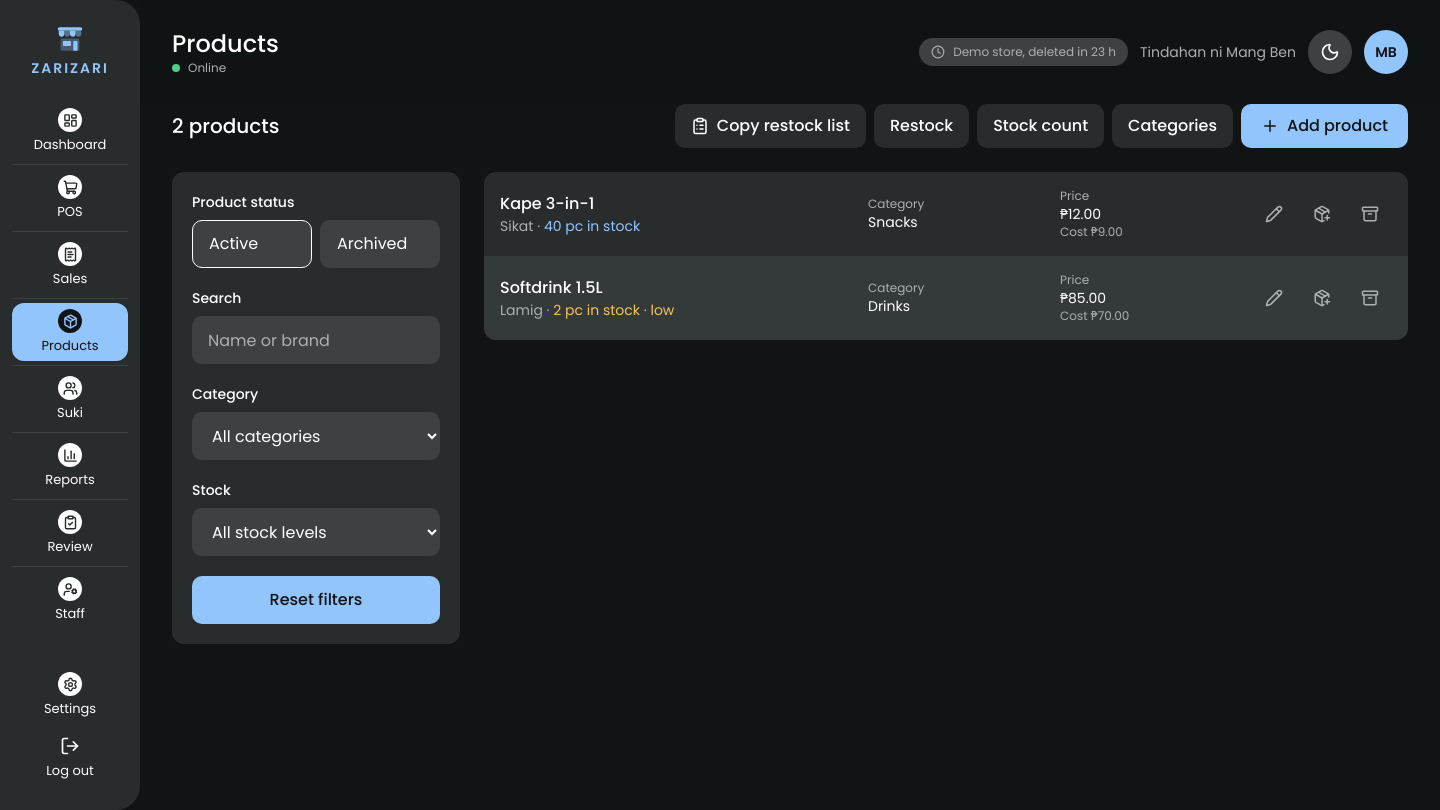
Scenario: products list (reference: Inventory) › archives a product from its row and brings an archived one back
Click the button named "Archive Kape 3-in-1".
click(1370, 214)  # box [1348,192,1392,236]
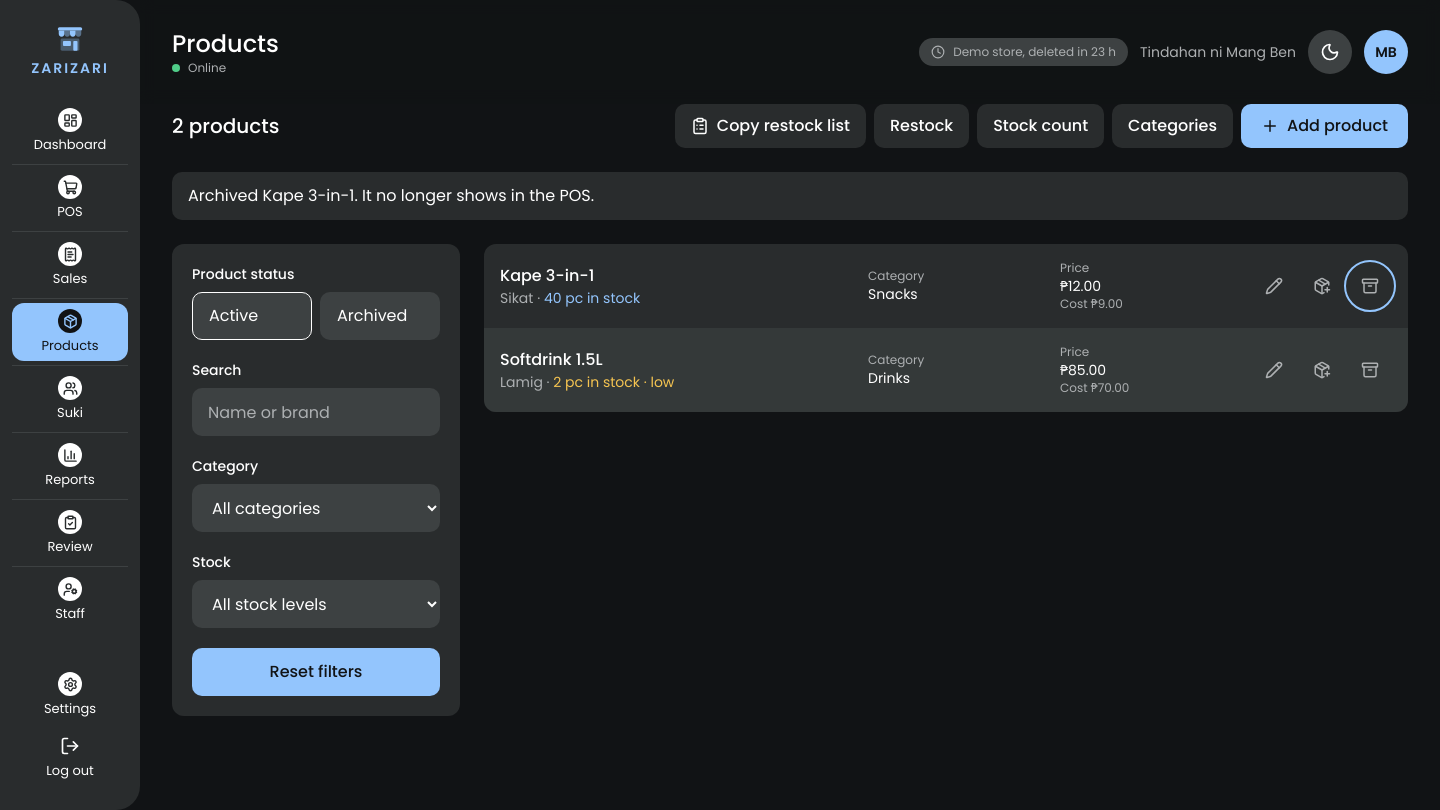
Now the text "Archived Kape 3-in-1. It no longer shows in the POS." is shown, box [188,184,594,207]
Click the button "Archived".
click(380, 316)  # box [320,292,440,340]
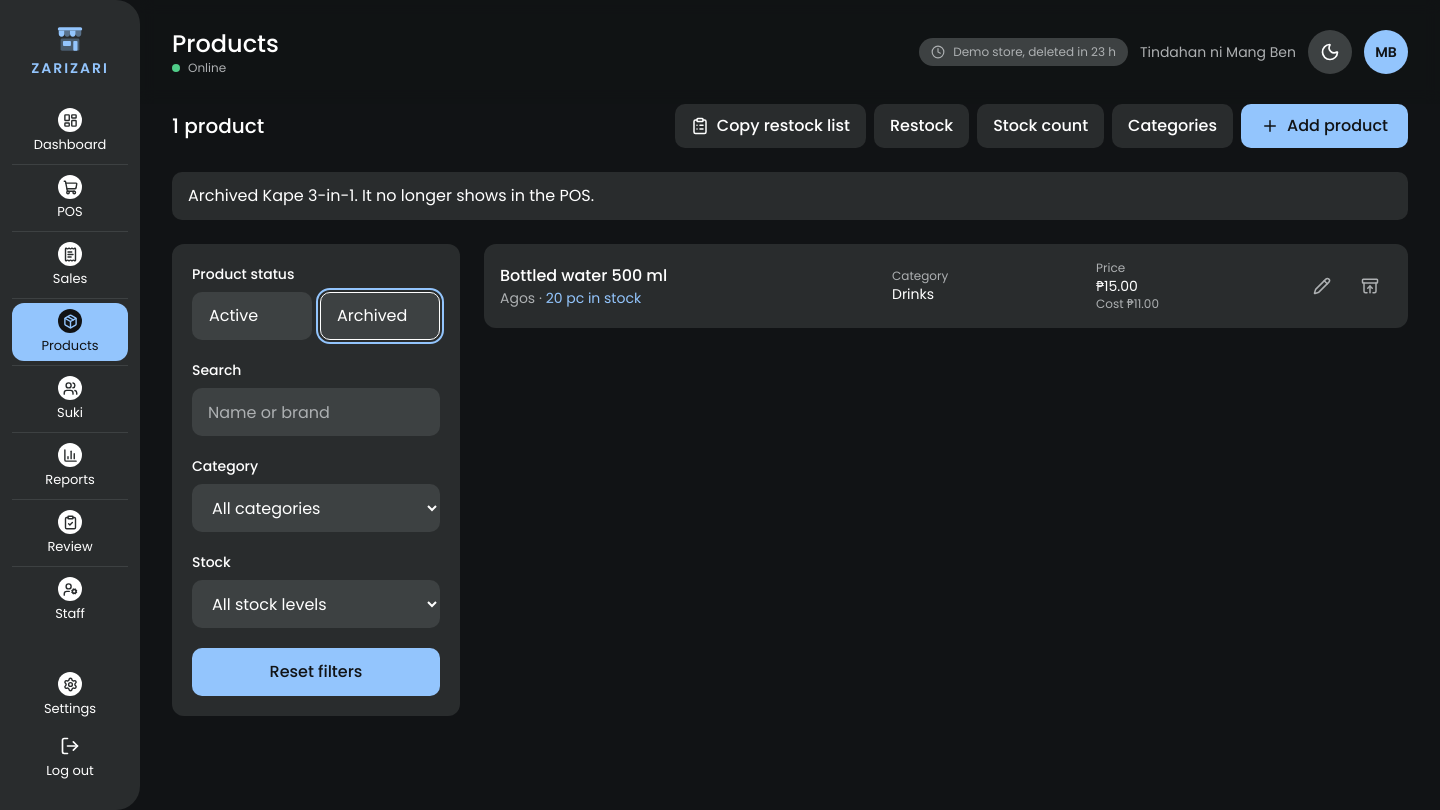
Click the button named "Unarchive Bottled water 500 ml".
click(1370, 286)  # box [1348,264,1392,308]
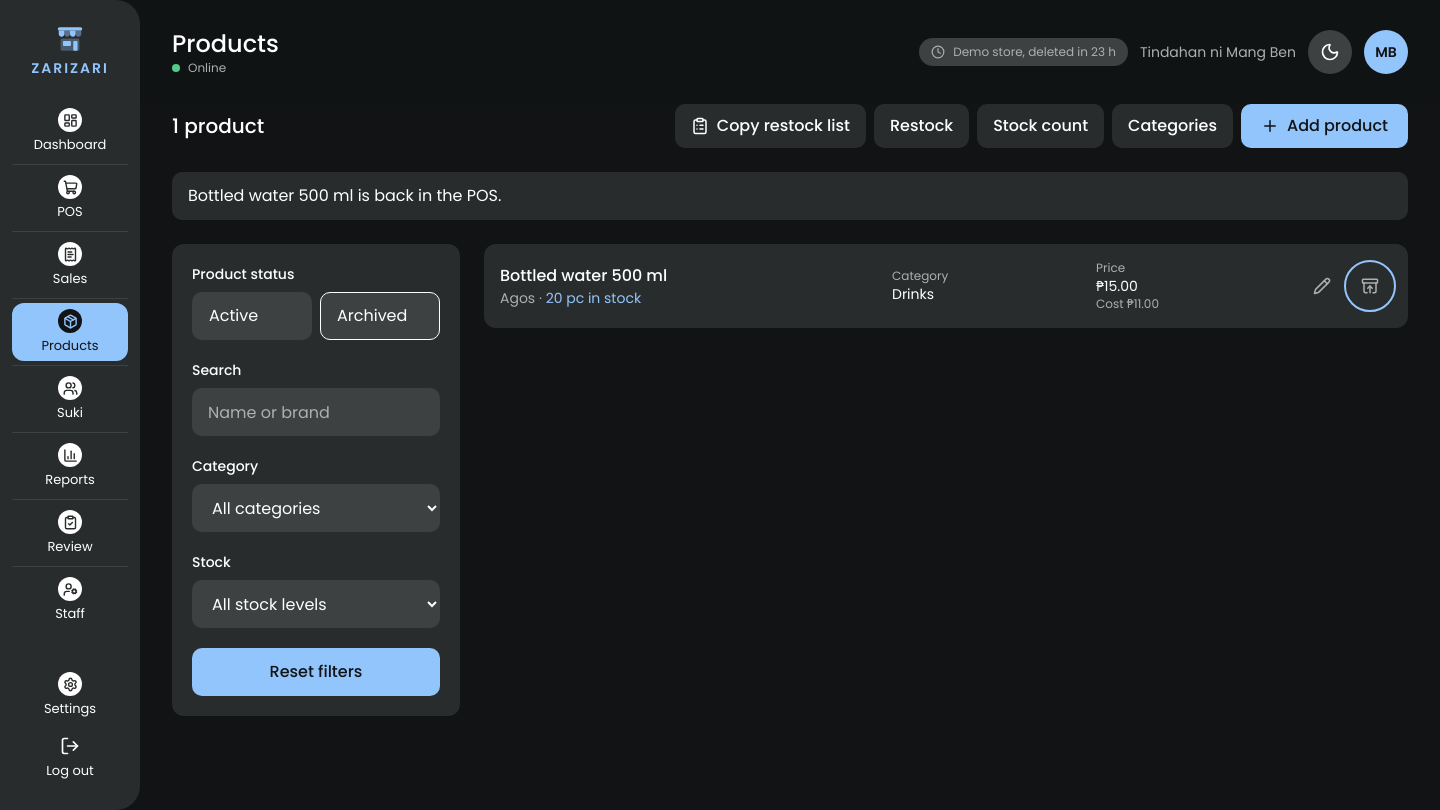
Now the text "Bottled water 500 ml is back in the POS." is shown, box [188,184,501,207]
